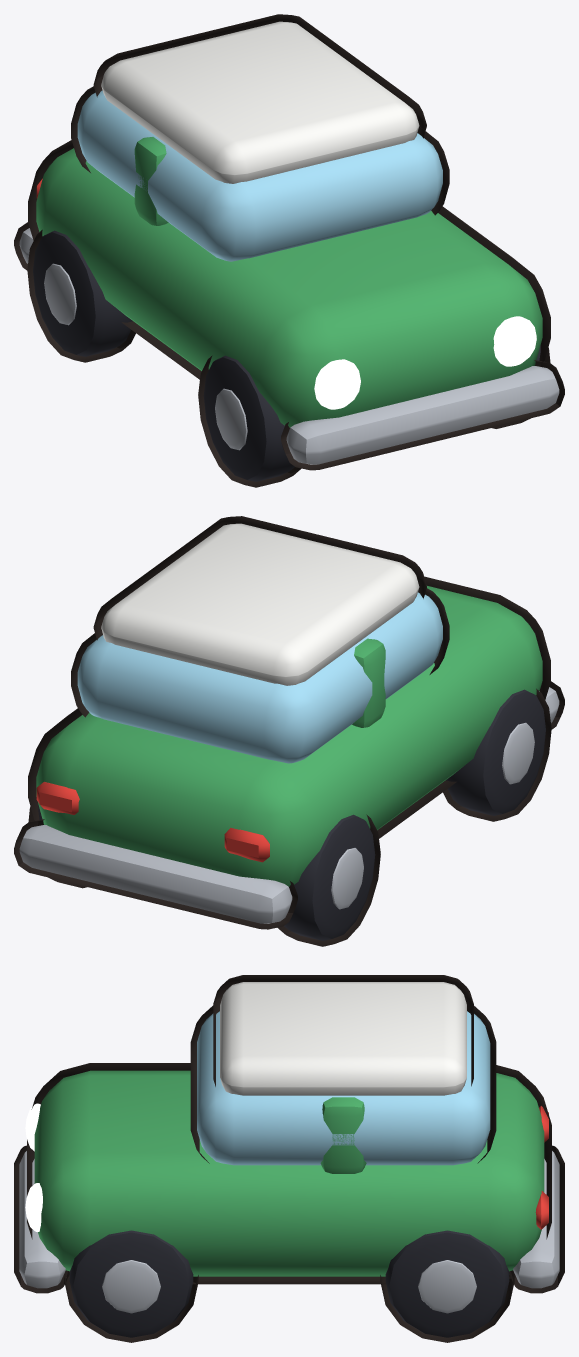
The model's file is Car_Hatch_Green.fbx.
The picture shows the model from 3 angles, top to bottom: view 1: azimuth 30°, elevation 25°; view 2: azimuth 150°, elevation 25°; view 3: azimuth 270°, elevation 25°; orthographic projection. The views are drawn at different scales.
Visible parts, largest first — view 1: VH_Car_Hatch_Green_AwningGreen, VH_Car_Hatch_Green_White, VH_Car_Hatch_Green_Window, VH_Car_Hatch_Green_MetalLight, VH_Car_Hatch_Green_Outline, VH_Car_Hatch_Green_Black, VH_Car_Hatch_Green_LampWarm; view 2: VH_Car_Hatch_Green_AwningGreen, VH_Car_Hatch_Green_White, VH_Car_Hatch_Green_Window, VH_Car_Hatch_Green_MetalLight, VH_Car_Hatch_Green_Outline, VH_Car_Hatch_Green_Black, VH_Car_Hatch_Green_Red; view 3: VH_Car_Hatch_Green_AwningGreen, VH_Car_Hatch_Green_White, VH_Car_Hatch_Green_Window, VH_Car_Hatch_Green_Black, VH_Car_Hatch_Green_Outline, VH_Car_Hatch_Green_MetalLight, VH_Car_Hatch_Green_LampWarm, VH_Car_Hatch_Green_Red.
Part boxes in pixels (x1,y1,x2,y2): VH_Car_Hatch_Green_AwningGreen: [36, 137, 542, 427]; VH_Car_Hatch_Green_White: [101, 21, 419, 183]; VH_Car_Hatch_Green_Window: [77, 90, 442, 261]; VH_Car_Hatch_Green_MetalLight: [19, 228, 559, 464]; VH_Car_Hatch_Green_Outline: [14, 14, 564, 487]; VH_Car_Hatch_Green_Black: [33, 230, 544, 481]; VH_Car_Hatch_Green_LampWarm: [314, 316, 536, 409]; VH_Car_Hatch_Green_AwningGreen: [36, 586, 542, 886]; VH_Car_Hatch_Green_White: [101, 523, 419, 685]; VH_Car_Hatch_Green_Window: [77, 592, 442, 763]; VH_Car_Hatch_Green_MetalLight: [19, 687, 559, 923]; VH_Car_Hatch_Green_Outline: [14, 516, 564, 946]; VH_Car_Hatch_Green_Black: [34, 689, 545, 940]; VH_Car_Hatch_Green_Red: [36, 782, 269, 862]; VH_Car_Hatch_Green_AwningGreen: [34, 1070, 544, 1276]; VH_Car_Hatch_Green_White: [220, 982, 466, 1095]; VH_Car_Hatch_Green_Window: [197, 1011, 490, 1165]; VH_Car_Hatch_Green_Black: [69, 1230, 509, 1337]; VH_Car_Hatch_Green_Outline: [14, 975, 564, 1342]; VH_Car_Hatch_Green_MetalLight: [19, 1151, 559, 1313]; VH_Car_Hatch_Green_LampWarm: [25, 1103, 42, 1231]; VH_Car_Hatch_Green_Red: [535, 1106, 548, 1229].
Bounding box in the file's own units: 2.05 × 1.92 × 3.57.
